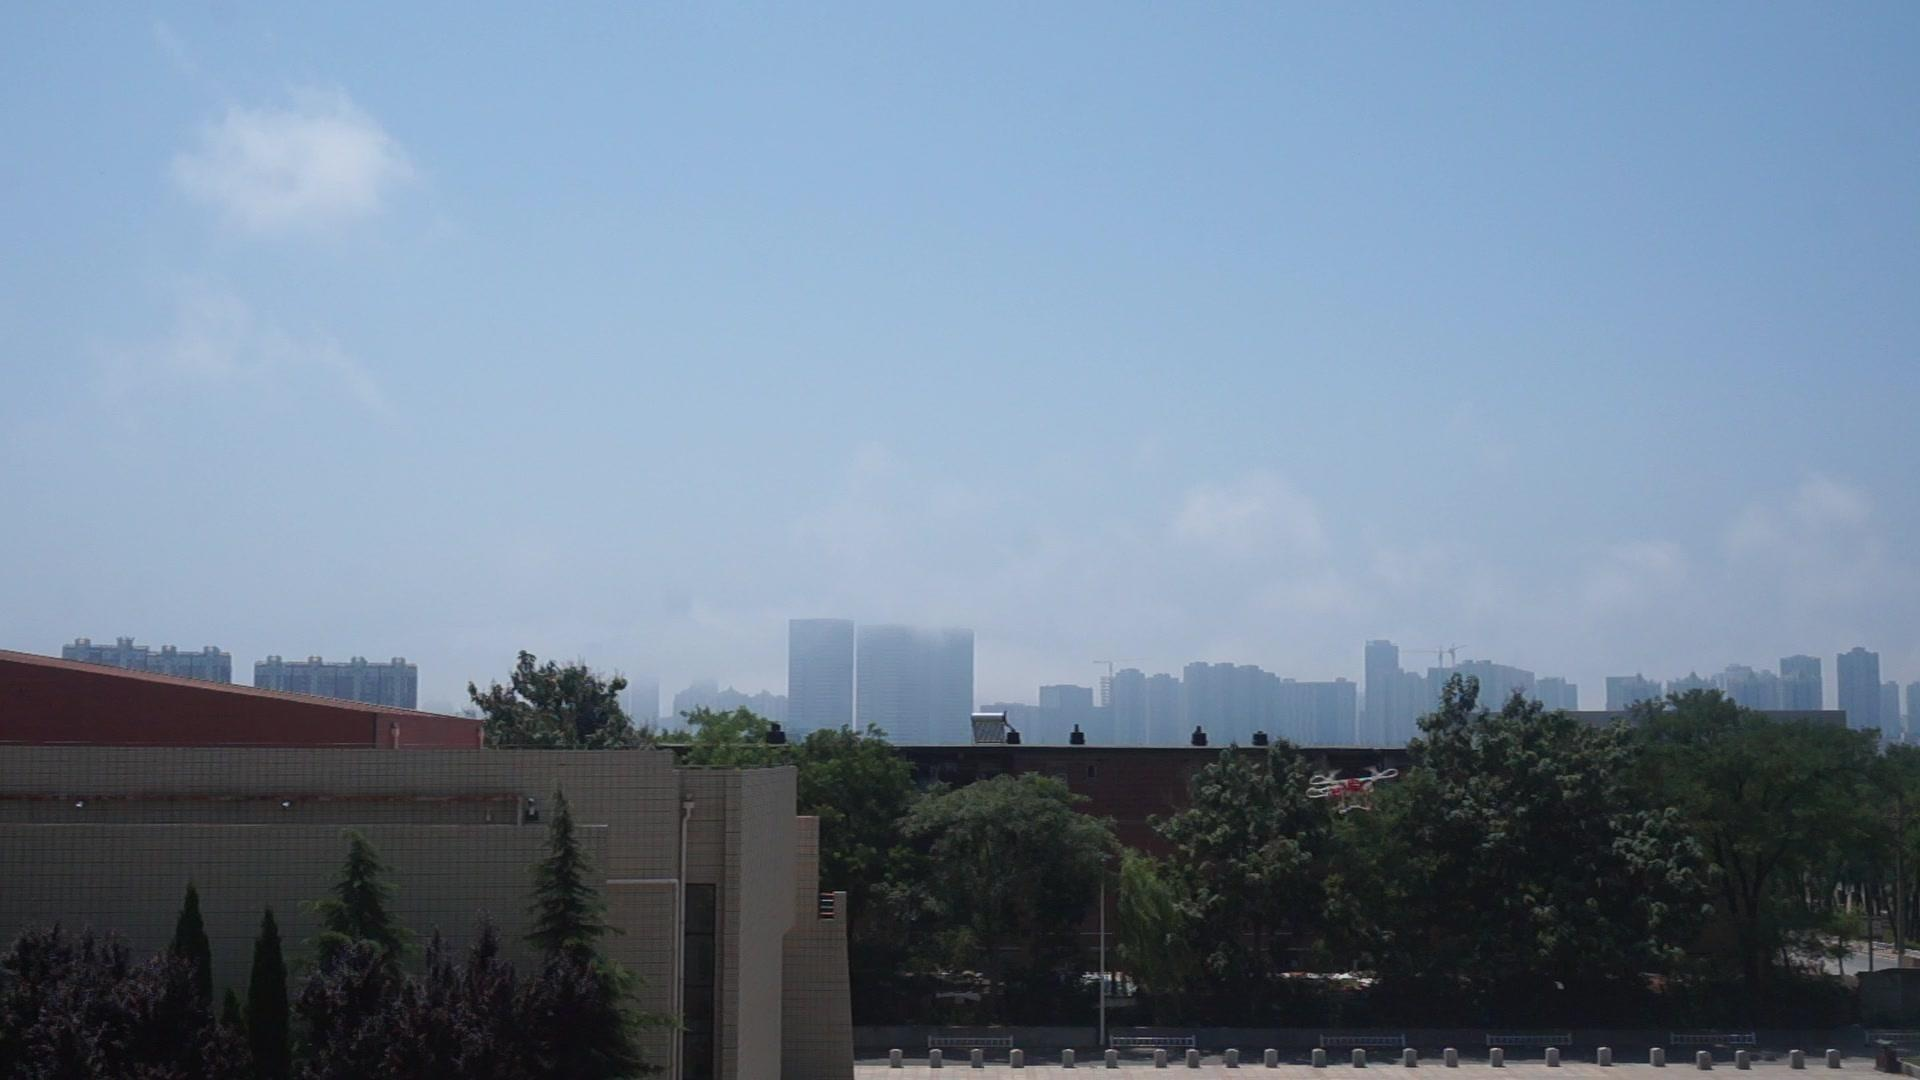UAV: (1305, 767, 1400, 816)
